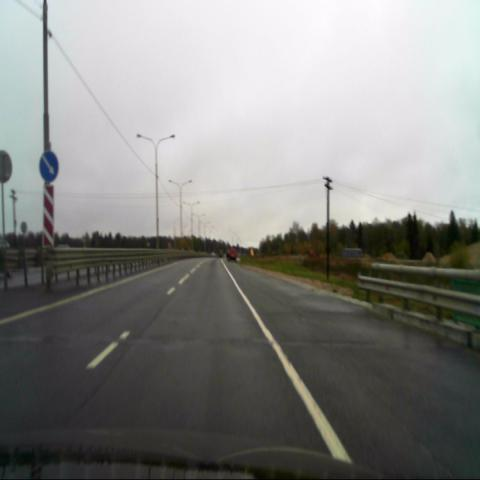4_2_1: (39, 150, 59, 183)
